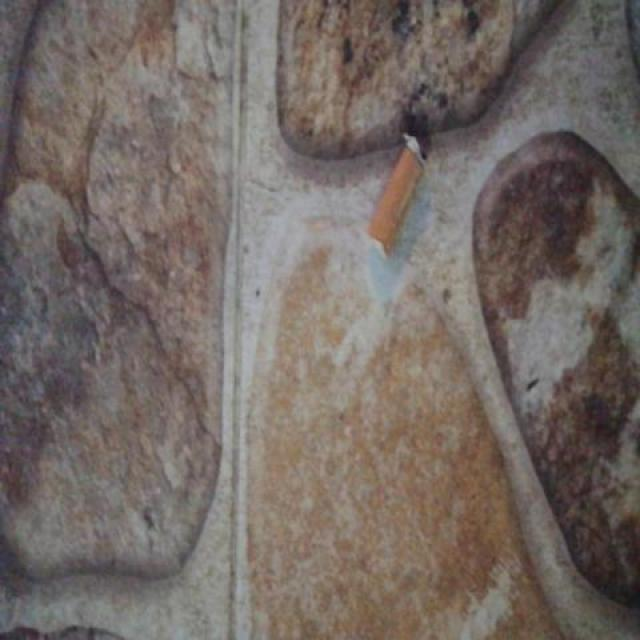non-organic waste: (357, 126, 434, 262)
